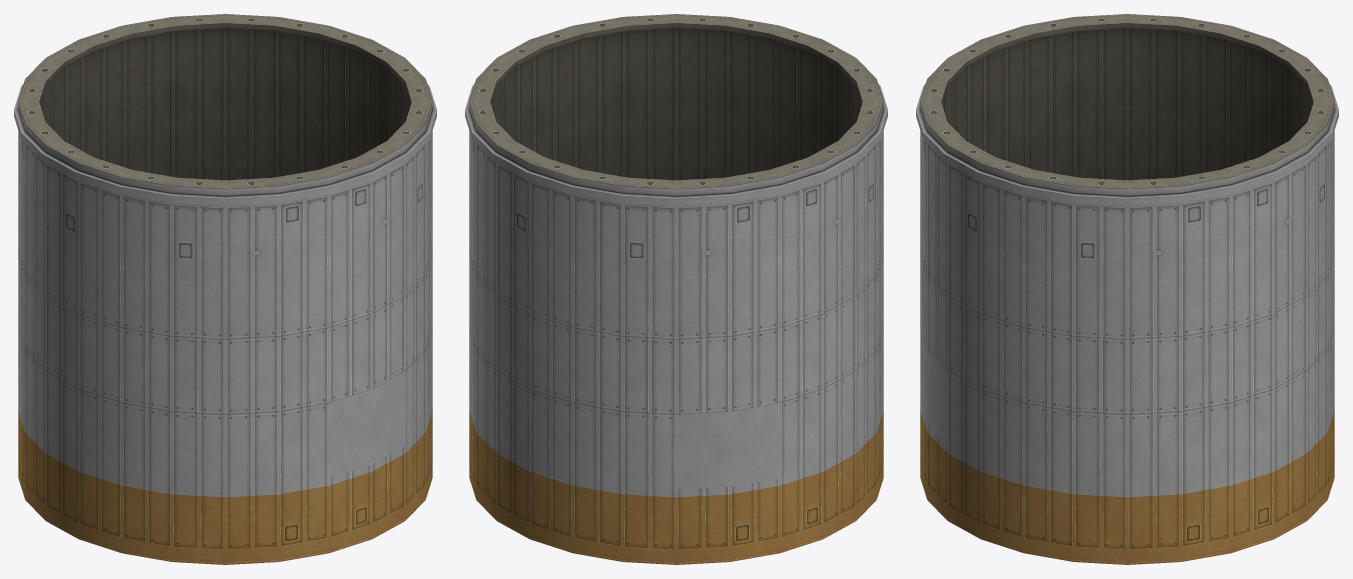
Rendered from small interstage.obj.
3 views of the same model, side by side, from view 1: azimuth 30°, elevation 25°; view 2: azimuth 150°, elevation 25°; view 3: azimuth 270°, elevation 25° (orthographic).
Parts seen in each view (by area): view 1: small_interstage; view 2: small_interstage; view 3: small_interstage.
Boxes of the visible parts, <box> form: small_interstage: <box>14,14,436,564</box>; small_interstage: <box>465,14,887,564</box>; small_interstage: <box>916,14,1338,564</box>.
Size of the model in its own units: 2.55 by 2.5 by 2.55.
1 material, 1 textured.
